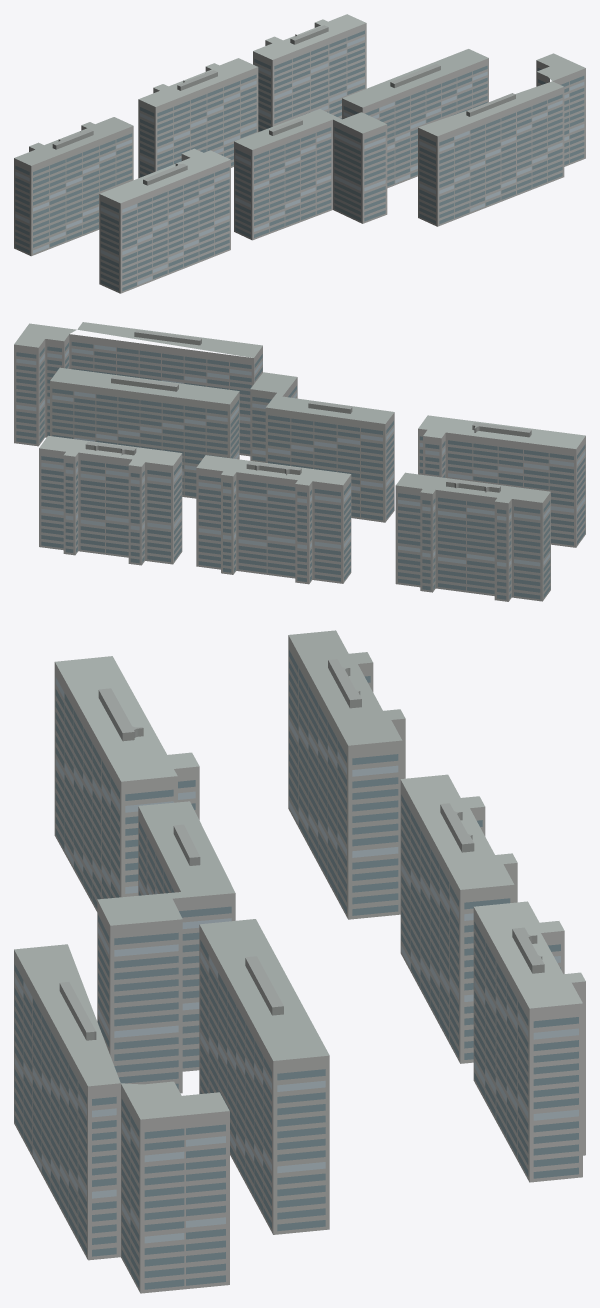
The model's file is apt-a13980012.glb.
3 views of the same model, one above another, from view 1: azimuth 30°, elevation 25°; view 2: azimuth 150°, elevation 25°; view 3: azimuth 270°, elevation 25° (orthographic). The views are drawn at different scales.
Parts seen in each view (by area): view 1: apt-a13980012; view 2: apt-a13980012; view 3: apt-a13980012.
Boxes of the visible parts, bbox=[...] form: apt-a13980012: bbox=[14, 14, 585, 293]; apt-a13980012: bbox=[14, 322, 585, 601]; apt-a13980012: bbox=[14, 630, 585, 1293].
Size of the model in its own units: 230 by 40 by 114.
